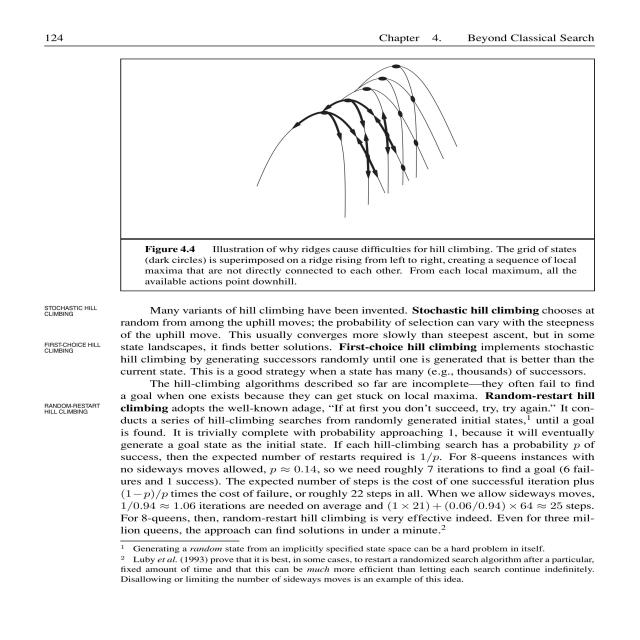diagram: (87, 51, 640, 306)
